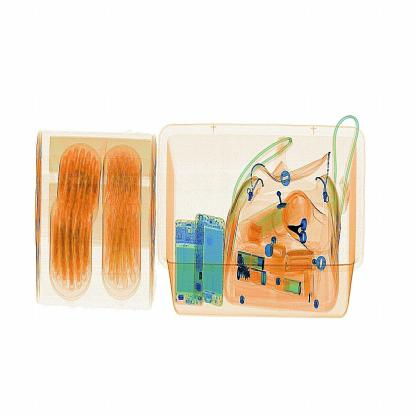gun: (286, 210, 314, 247)
